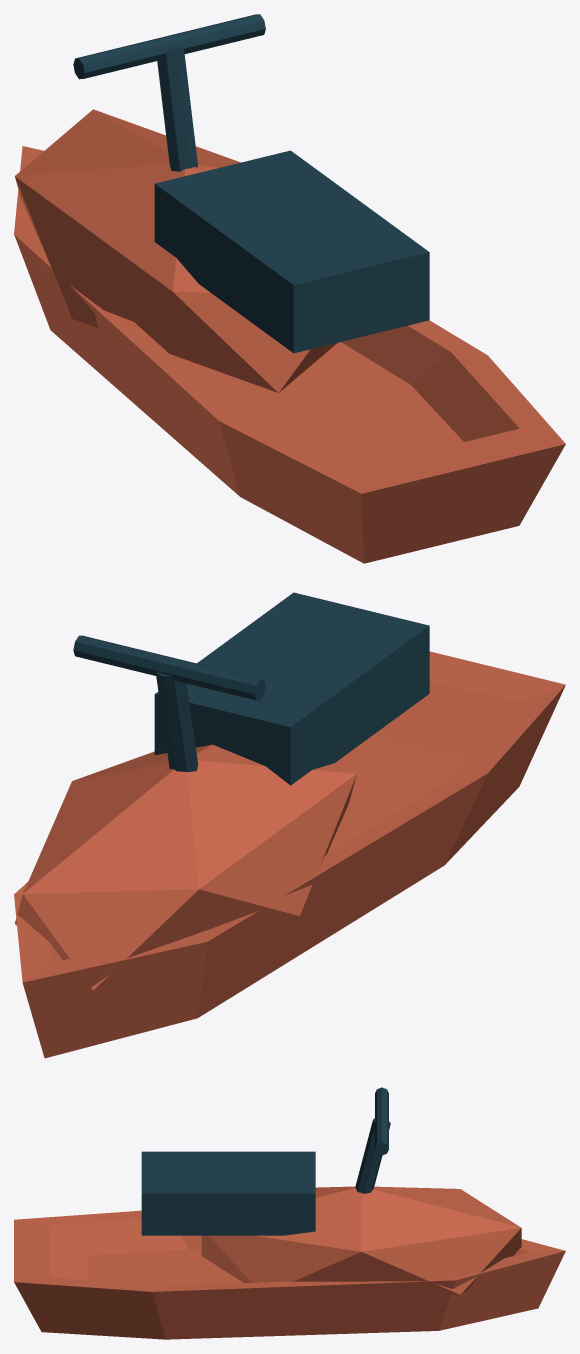
File: jetski.glb
3 renders of one model, top to bottom at view 1: azimuth 30°, elevation 25°; view 2: azimuth 150°, elevation 25°; view 3: azimuth 270°, elevation 25°, orthographic. The views are drawn at different scales.
Parts seen in each view (by area): view 1: jetski_pc; view 2: jetski_pc; view 3: jetski_pc.
Part boxes in pixels (x1=…): jetski_pc: x1=14, y1=14, x2=565, y2=563; jetski_pc: x1=14, y1=592, x2=565, y2=1058; jetski_pc: x1=14, y1=1087, x2=565, y2=1339.
Bounding box in the file's own units: 0.95 × 1.04 × 2.7.
